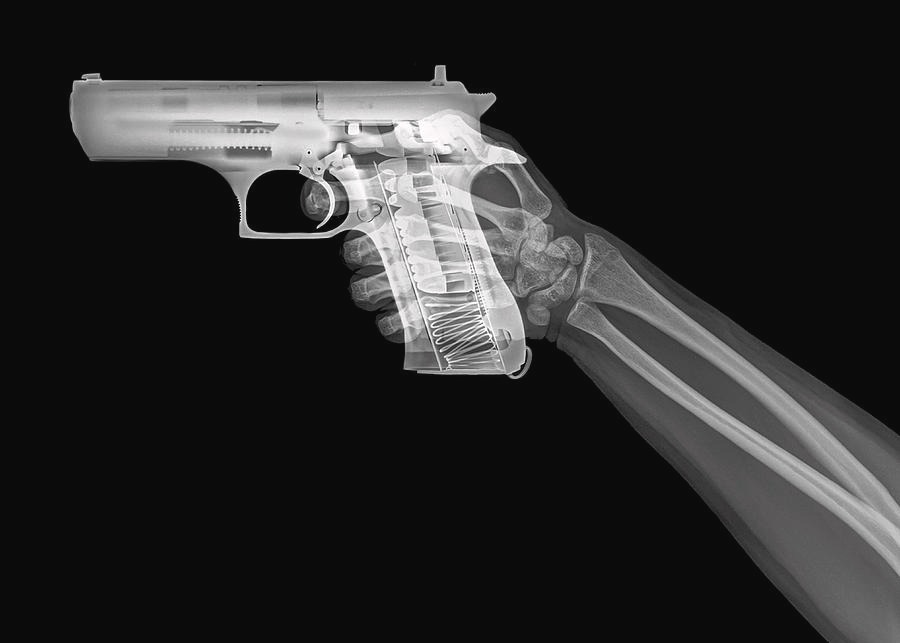gun: (63, 56, 539, 369)
